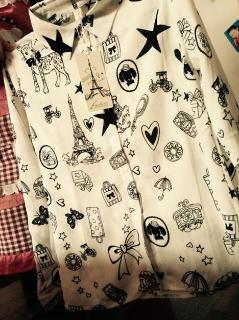long sleeve top: (1, 0, 239, 313)
